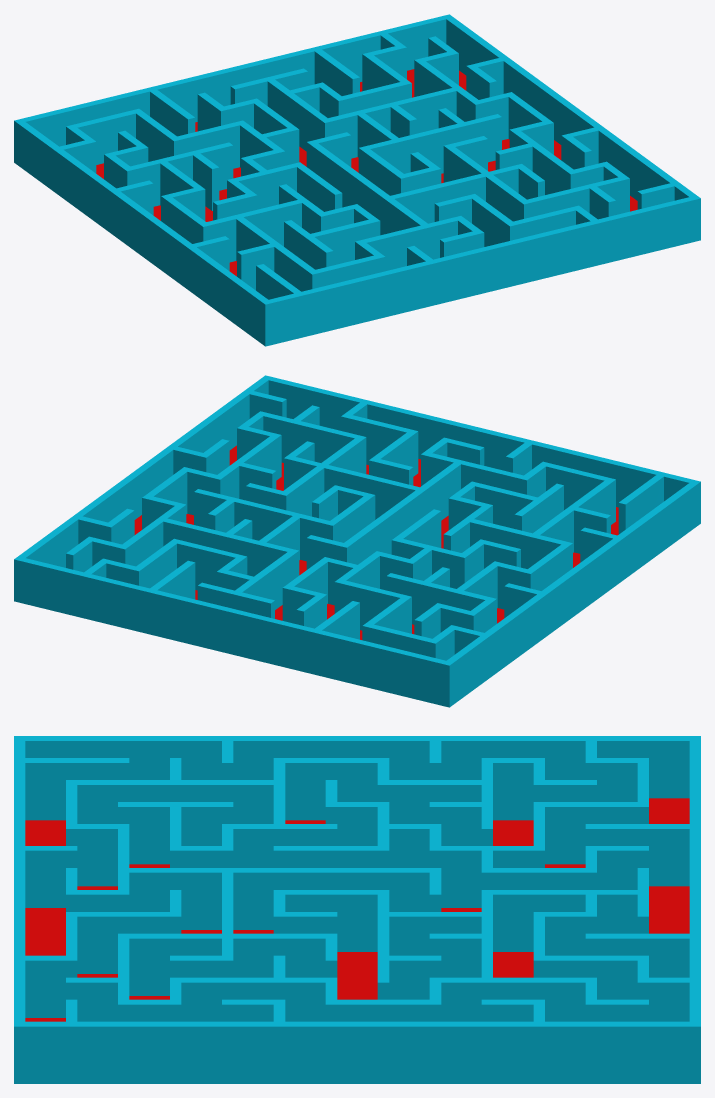
Rendered from Level35Ground.FBX.
3 renders of one model, top to bottom at view 1: azimuth 30°, elevation 25°; view 2: azimuth 150°, elevation 25°; view 3: azimuth 270°, elevation 25°, orthographic. The views are drawn at different scales.
Parts seen in each view (by area): view 1: pPlane2; view 2: pPlane2; view 3: pPlane2.
Boxes of the visible parts, x1=… form: pPlane2: x1=14, y1=14, x2=700, y2=346; pPlane2: x1=14, y1=375, x2=700, y2=707; pPlane2: x1=14, y1=736, x2=700, y2=1083.
Bounding box in the file's own units: 304 × 28 × 304.
